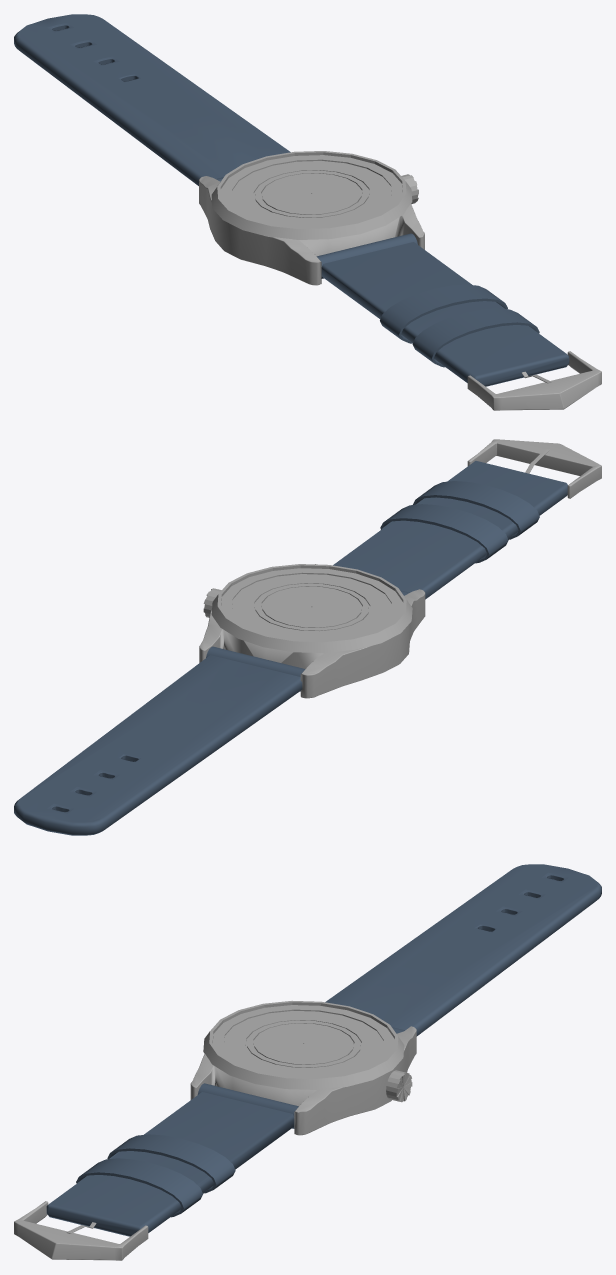
Rendered from watch.fbx.
3 views of the same model, one above another, from view 1: azimuth 30°, elevation 25°; view 2: azimuth 150°, elevation 25°; view 3: azimuth 330°, elevation 25° (orthographic).
Visible parts, largest first — view 1: pasted__pCube1 (×2), pCylinder1, pCube1, pCylinder2, pasted__pCylinder6, pCylinder6, pCylinder4; view 2: pasted__pCube1 (×2), pCylinder1, pCube1, pCylinder2, pasted__pCylinder6, pCylinder6, pasted__pCylinder4; view 3: pasted__pCube1 (×2), pCylinder1, pCube1, pCylinder2, pasted__pCylinder6, pCylinder6, pCylinder4, pCylinder3.
Boxes of the visible parts, bbox=[...] form: pasted__pCube1 (×2): bbox=[14, 14, 601, 410]; pCylinder1: bbox=[211, 151, 412, 239]; pCube1: bbox=[321, 242, 569, 386]; pCylinder2: bbox=[199, 176, 424, 285]; pasted__pCylinder6: bbox=[380, 284, 507, 343]; pCylinder6: bbox=[412, 308, 539, 367]; pCylinder4: bbox=[317, 233, 417, 278]; pasted__pCube1 (×2): bbox=[14, 439, 601, 835]; pCylinder1: bbox=[211, 564, 412, 653]; pCube1: bbox=[333, 461, 567, 599]; pCylinder2: bbox=[199, 564, 425, 698]; pasted__pCylinder6: bbox=[380, 504, 508, 563]; pCylinder6: bbox=[413, 481, 539, 539]; pasted__pCylinder4: bbox=[206, 646, 305, 691]; pasted__pCube1 (×2): bbox=[14, 864, 601, 1260]; pCylinder1: bbox=[203, 1000, 404, 1089]; pCube1: bbox=[46, 1092, 294, 1236]; pCylinder2: bbox=[190, 1026, 416, 1135]; pasted__pCylinder6: bbox=[107, 1134, 235, 1193]; pCylinder6: bbox=[76, 1158, 202, 1217]; pCylinder4: bbox=[197, 1083, 298, 1128]; pCylinder3: bbox=[386, 1070, 412, 1102].
Bounding box in the file's own units: 7 × 1.65 × 33.12.
